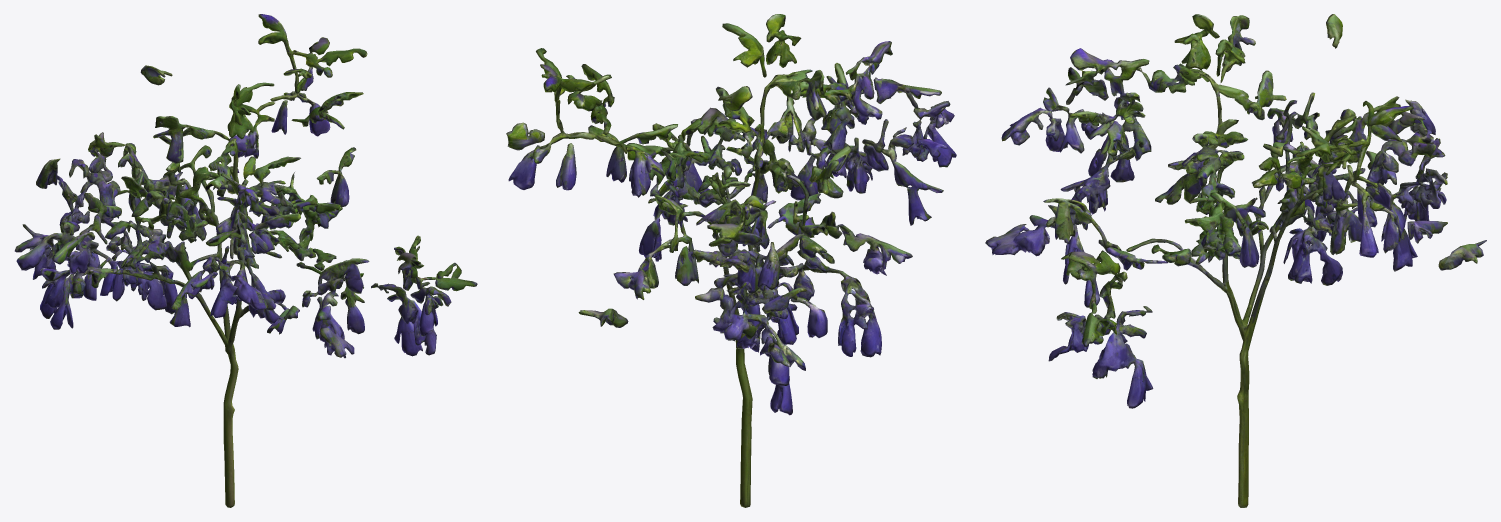
Rendered from mookshood(aconitum).glb.
The picture shows the model from 3 angles, left to right: view 1: azimuth 30°, elevation 25°; view 2: azimuth 150°, elevation 25°; view 3: azimuth 270°, elevation 25°; orthographic projection. The views are drawn at different scales.
Bounding box in the file's own units: 1.64 × 2 × 1.87.
Materials: 1 (1 with a texture image).
